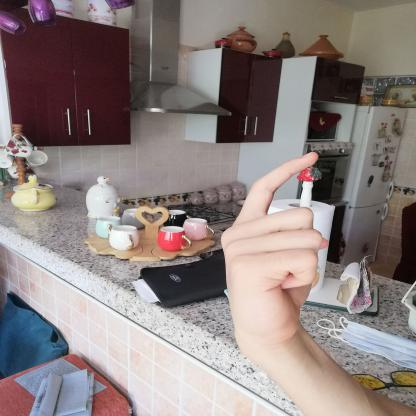RAA: (210, 144, 338, 361)
